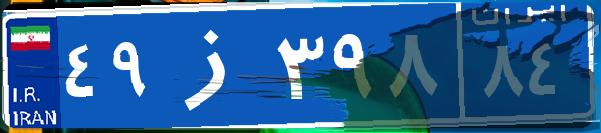3: (273, 28, 330, 110)
4: (57, 26, 110, 107), (525, 38, 570, 115)
8: (385, 28, 445, 110), (475, 38, 525, 113)
9: (330, 28, 385, 110), (110, 28, 158, 105)
ز: (158, 15, 273, 115)
